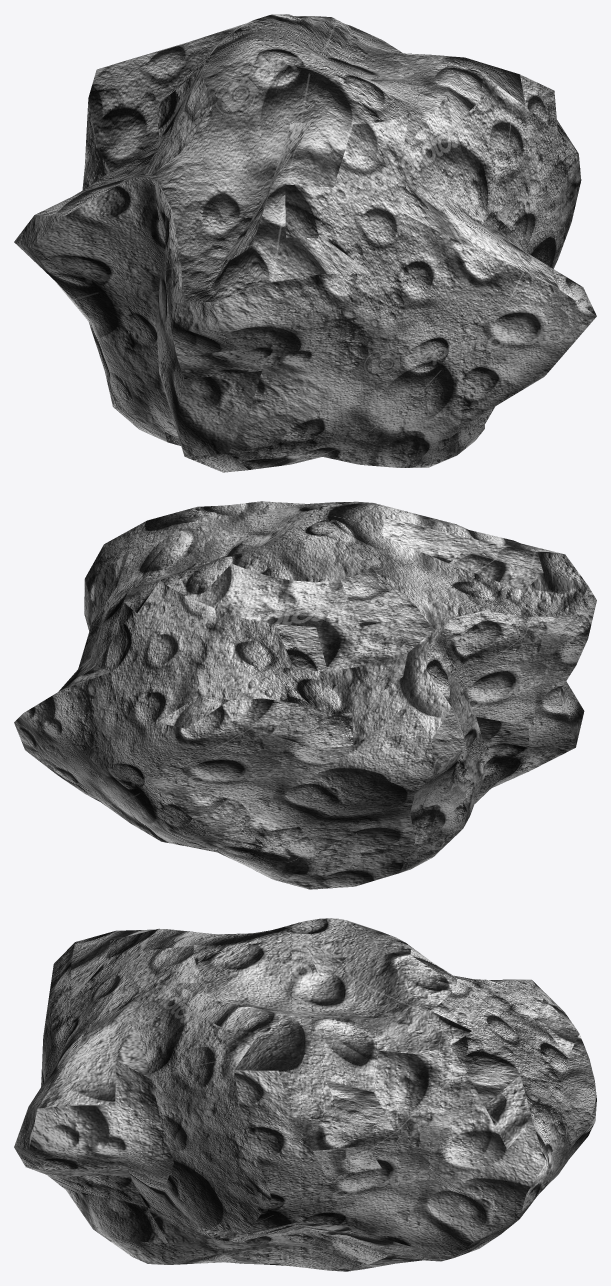
Rendered from asteroide_7.FBX.
3 views of the same model, one above another, from view 1: azimuth 30°, elevation 25°; view 2: azimuth 150°, elevation 25°; view 3: azimuth 270°, elevation 25° (orthographic). The views are drawn at different scales.
Parts seen in each view (by area): view 1: asteroide_1; view 2: asteroide_1; view 3: asteroide_1.
Part boxes in pixels (x1=…): asteroide_1: x1=14, y1=14, x2=596, y2=472; asteroide_1: x1=14, y1=501, x2=596, y2=889; asteroide_1: x1=14, y1=918, x2=596, y2=1271.
Size of the model in its own units: 367 by 264 by 433.
Materials: 1 (1 with a texture image).
